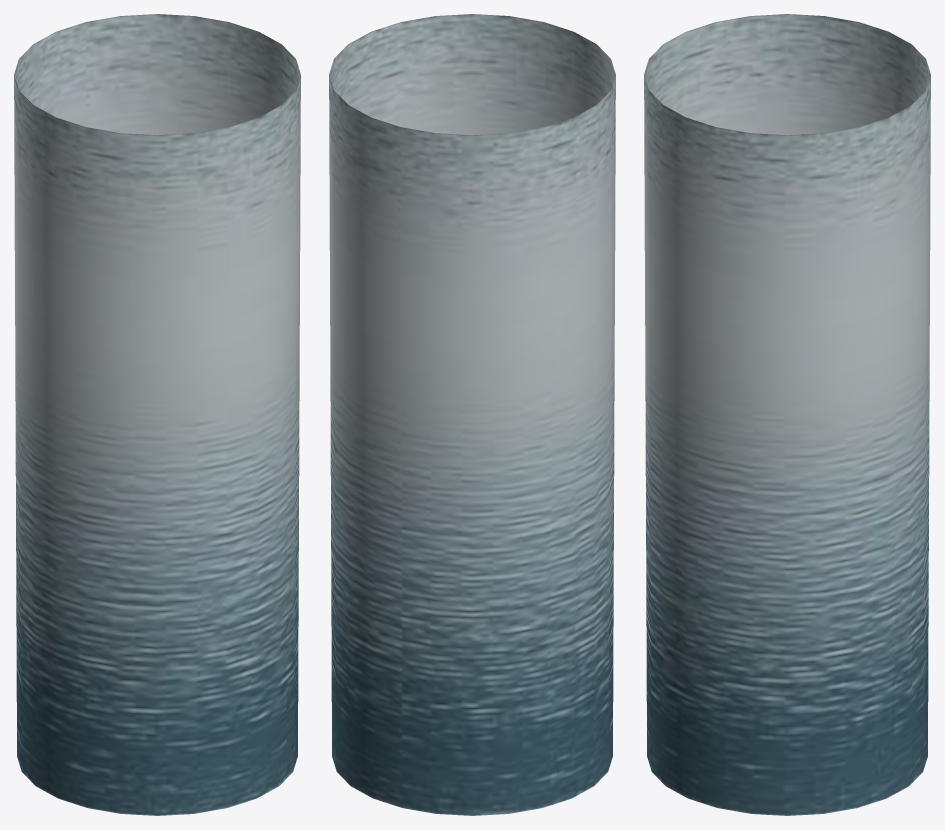
The model's file is koop2.FBX.
3 views of the same model, side by side, from view 1: azimuth 30°, elevation 25°; view 2: azimuth 150°, elevation 25°; view 3: azimuth 270°, elevation 25° (orthographic).
Parts seen in each view (by area): view 1: Cone001; view 2: Cone001; view 3: Cone001.
Part boxes in pixels (x1=…): Cone001: x1=14, y1=14, x2=300, y2=815; Cone001: x1=329, y1=14, x2=615, y2=815; Cone001: x1=644, y1=14, x2=930, y2=815.
Size of the model in its own units: 5.02 by 5.02 by 13.16.
Materials: 1 (1 with a texture image).
